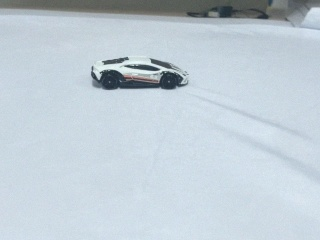toy_car: (90, 56, 189, 90)
